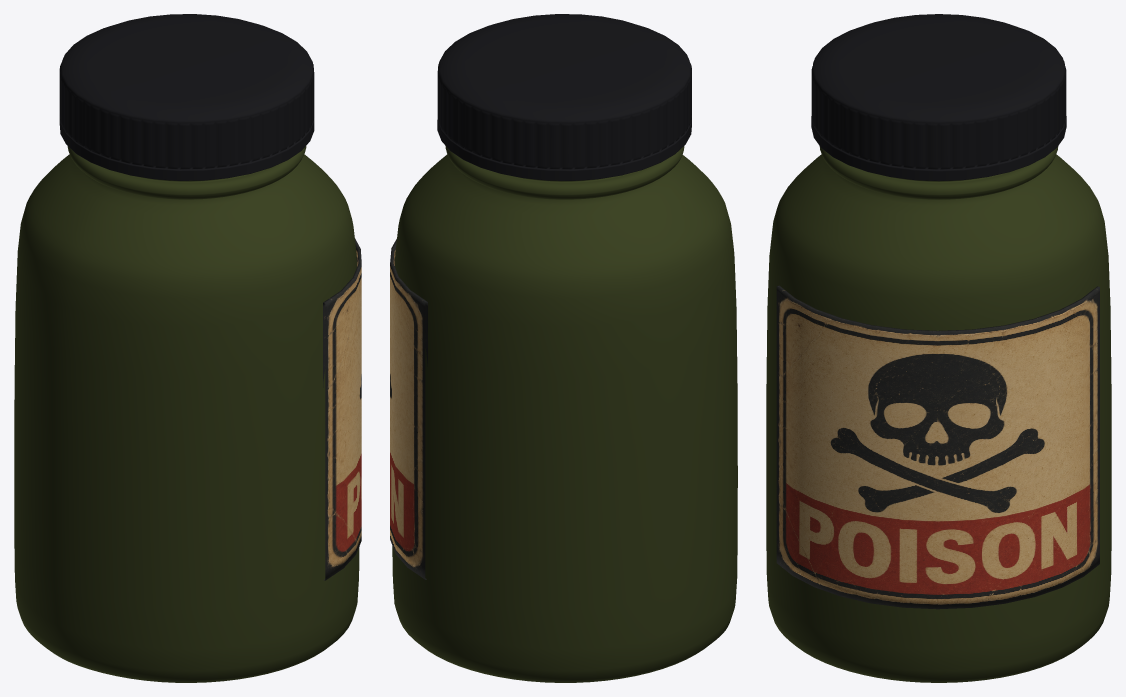
File: PoisonBottle.fbx
3 renders of one model, left to right at view 1: azimuth 30°, elevation 25°; view 2: azimuth 150°, elevation 25°; view 3: azimuth 270°, elevation 25°, orthographic.
Visible parts, largest first — view 1: Bottle, lip, label; view 2: Bottle, lip, label; view 3: label, Bottle, lip.
Part boxes in pixels (box(x1,y1,x2,y2)): Bottle: box(14, 146, 359, 682); lip: box(59, 14, 314, 180); label: box(323, 238, 361, 580); Bottle: box(392, 146, 737, 682); lip: box(437, 14, 691, 180); label: box(390, 239, 427, 579); label: box(776, 285, 1099, 609); Bottle: box(766, 146, 1111, 682); lip: box(811, 14, 1066, 181).
Bounding box in the file's own units: 117 × 208 × 116.
